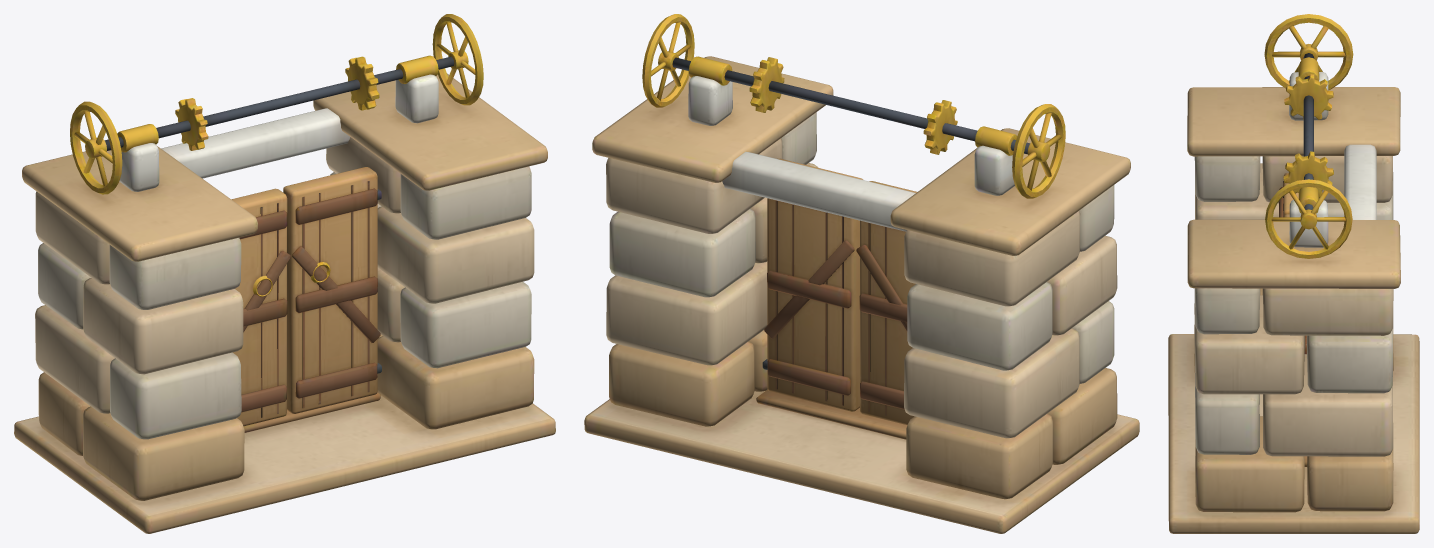
The model's file is lock-gate.glb.
3 renders of one model, left to right at view 1: azimuth 30°, elevation 25°; view 2: azimuth 150°, elevation 25°; view 3: azimuth 270°, elevation 25°, orthographic. The views are drawn at different scales.
Visible parts, largest first — view 1: walls, leaf_right, gear, leaf_left; view 2: walls, leaf_right, gear, leaf_left; view 3: walls, gear.
Part boxes in pixels (x1,y1,x2,y2): walls: [14, 55, 555, 533]; leaf_right: [283, 167, 381, 413]; gear: [70, 14, 483, 194]; leaf_left: [231, 188, 290, 426]; walls: [584, 56, 1139, 533]; leaf_right: [762, 158, 863, 411]; gear: [642, 14, 1065, 198]; leaf_left: [856, 181, 916, 424]; walls: [1168, 57, 1419, 533]; gear: [1264, 14, 1353, 258].
Bounding box in the file's own units: 3.05 × 2.58 × 1.7.
Materials: 9 (9 with a texture image).
